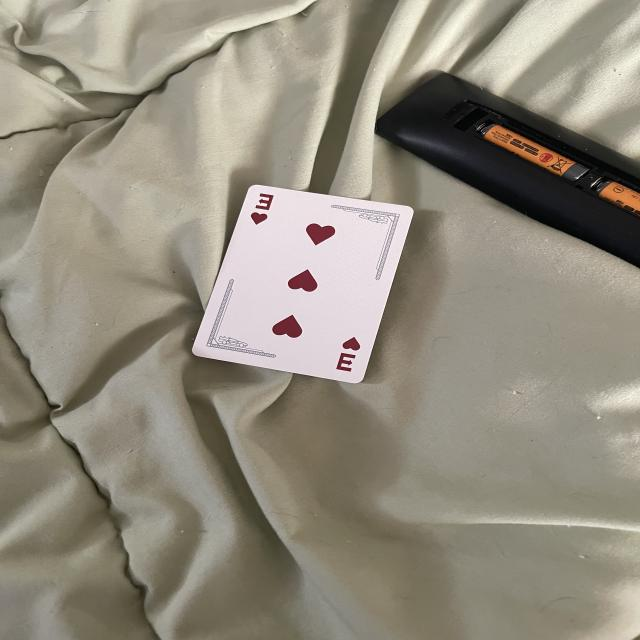3 of hearts: (193, 184, 414, 383)
